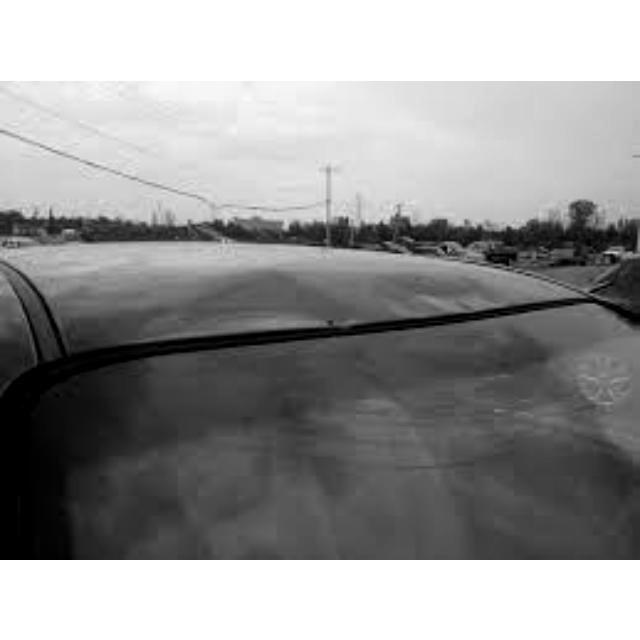roof-dent: (0, 236, 570, 366)
